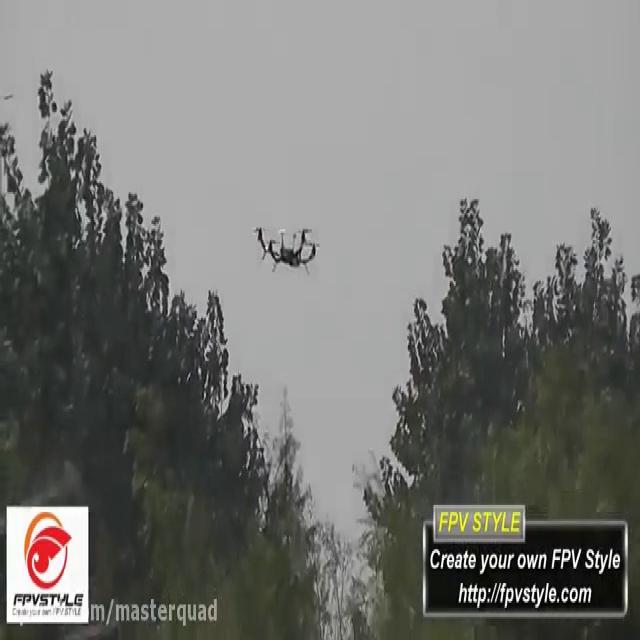drone: (247, 217, 323, 279)
